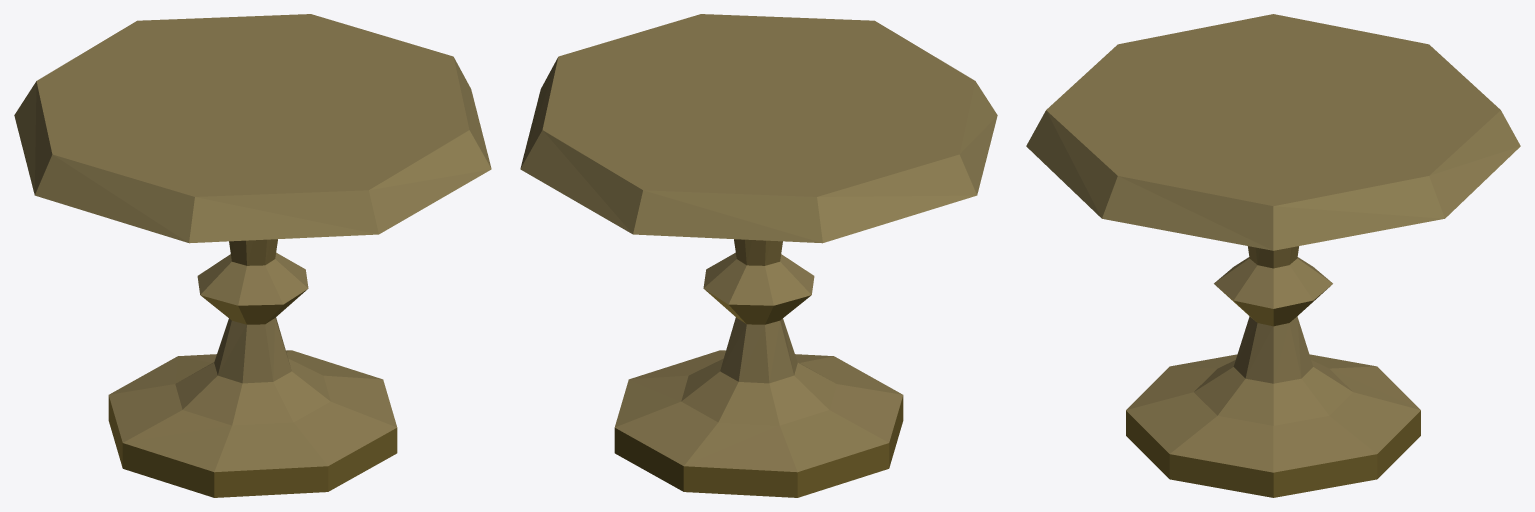
3 renders of one model, left to right at view 1: azimuth 30°, elevation 25°; view 2: azimuth 150°, elevation 25°; view 3: azimuth 270°, elevation 25°, orthographic.
Bounding box in the file's own units: 124 × 90 × 124.
1 material, 1 textured.
